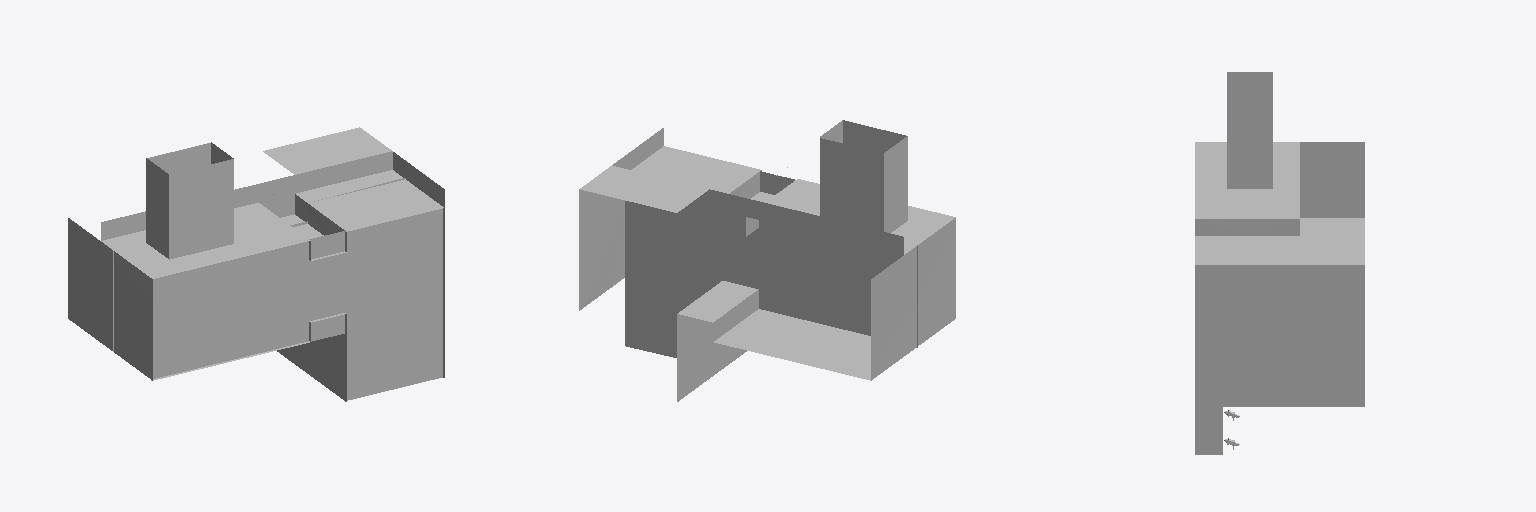
The model's file is aztec_3_mesh.obj.
3 views of the same model, side by side, from view 1: azimuth 30°, elevation 25°; view 2: azimuth 150°, elevation 25°; view 3: azimuth 270°, elevation 25° (orthographic).
Parts seen in each view (by area): view 1: aztec_3_mesh_1, aztec_3_mesh_0; view 2: aztec_3_mesh_1, aztec_3_mesh_0; view 3: aztec_3_mesh_1.
Boxes of the visible parts, box(x1,y1,x2,y2) form: aztec_3_mesh_1: box(68, 127, 444, 401); aztec_3_mesh_0: box(113, 143, 405, 351); aztec_3_mesh_1: box(579, 120, 955, 401); aztec_3_mesh_0: box(625, 138, 917, 357); aztec_3_mesh_1: box(1195, 72, 1364, 454).
Size of the model in its own units: 25.97 by 21.74 by 13.